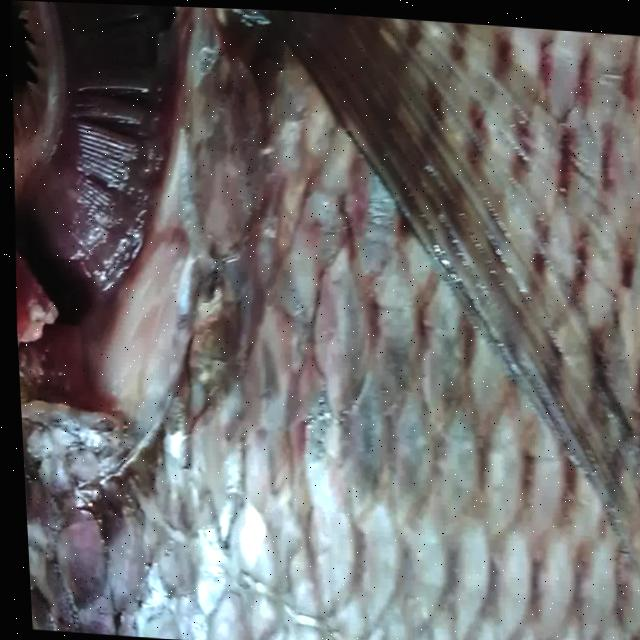Non-Fresh: (0, 0, 206, 346)
